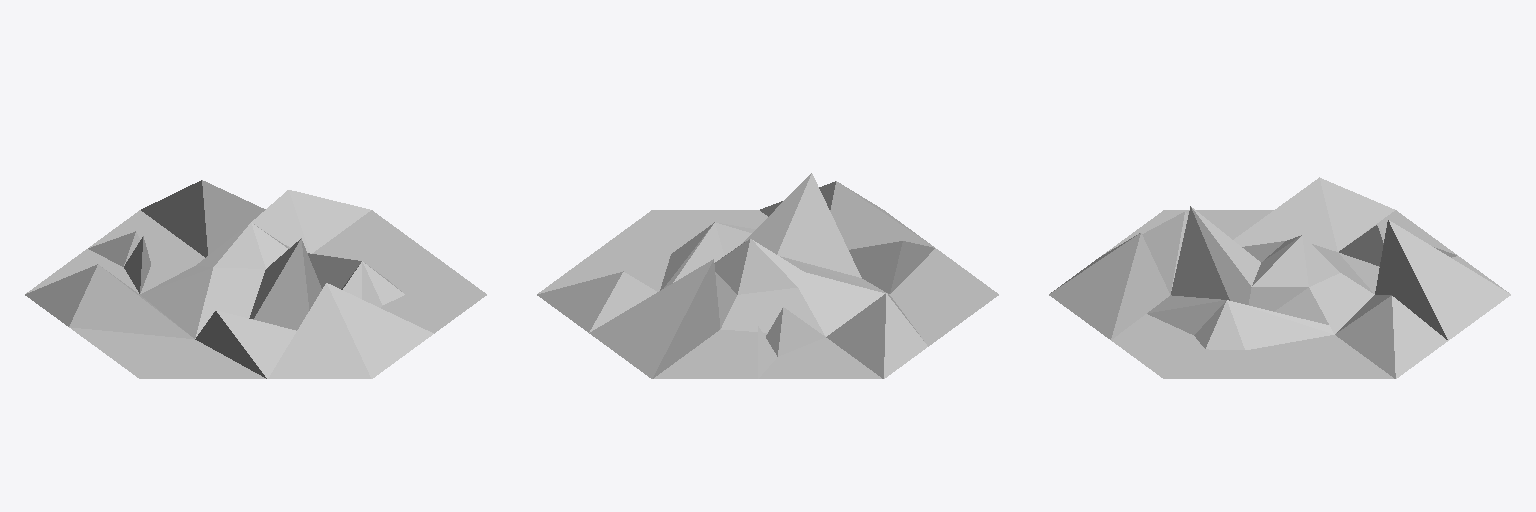
File: trap1.obj
3 renders of one model, left to right at view 1: azimuth 30°, elevation 25°; view 2: azimuth 150°, elevation 25°; view 3: azimuth 270°, elevation 25°, orthographic.
Visible parts, largest first — view 1: Circle_Circle.002; view 2: Circle_Circle.002; view 3: Circle_Circle.002.
Part boxes in pixels (bbox=[...]): Circle_Circle.002: bbox=[25, 180, 486, 378]; Circle_Circle.002: bbox=[537, 173, 998, 378]; Circle_Circle.002: bbox=[1049, 177, 1510, 378].
Size of the model in its own units: 1.73 by 0.4798 by 2.